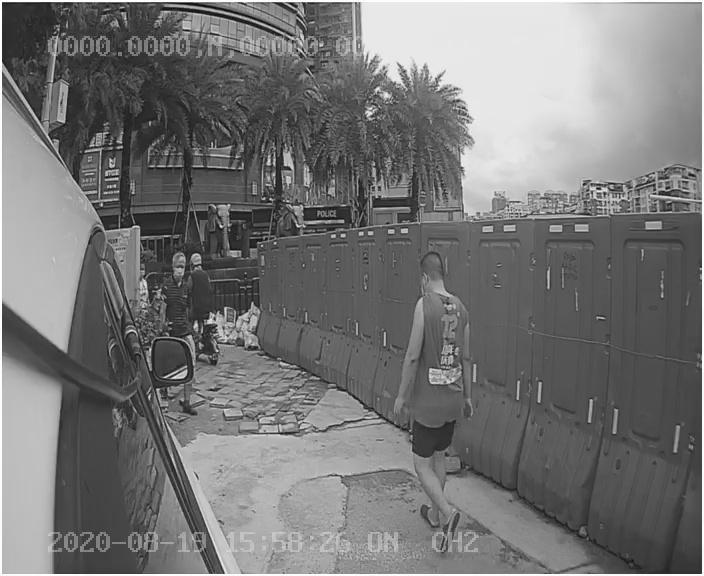person: (379, 246, 511, 533)
